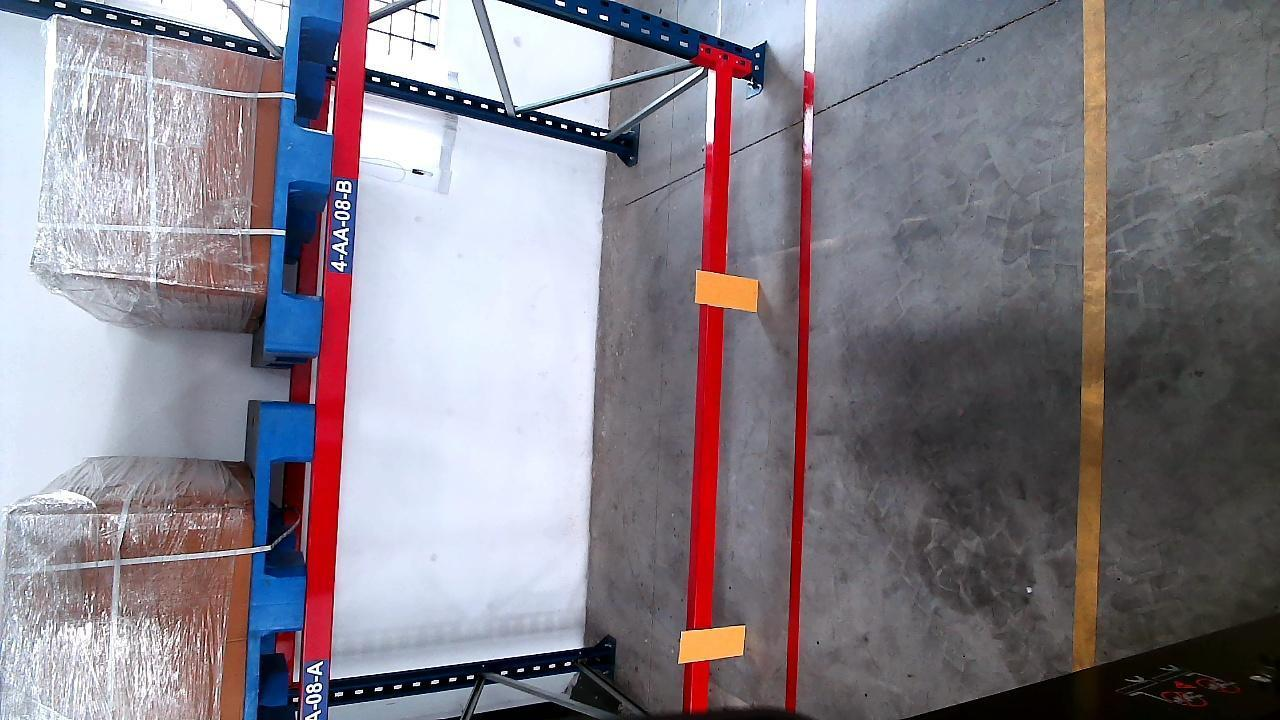h_rack: (301, 0, 368, 720), (690, 63, 731, 719)
orange_strip: (678, 625, 747, 662), (697, 272, 760, 308)
red_line: (782, 72, 819, 706)
small_pallet: (268, 0, 345, 355), (246, 412, 315, 717)
yellow_line: (1077, 5, 1110, 672)
